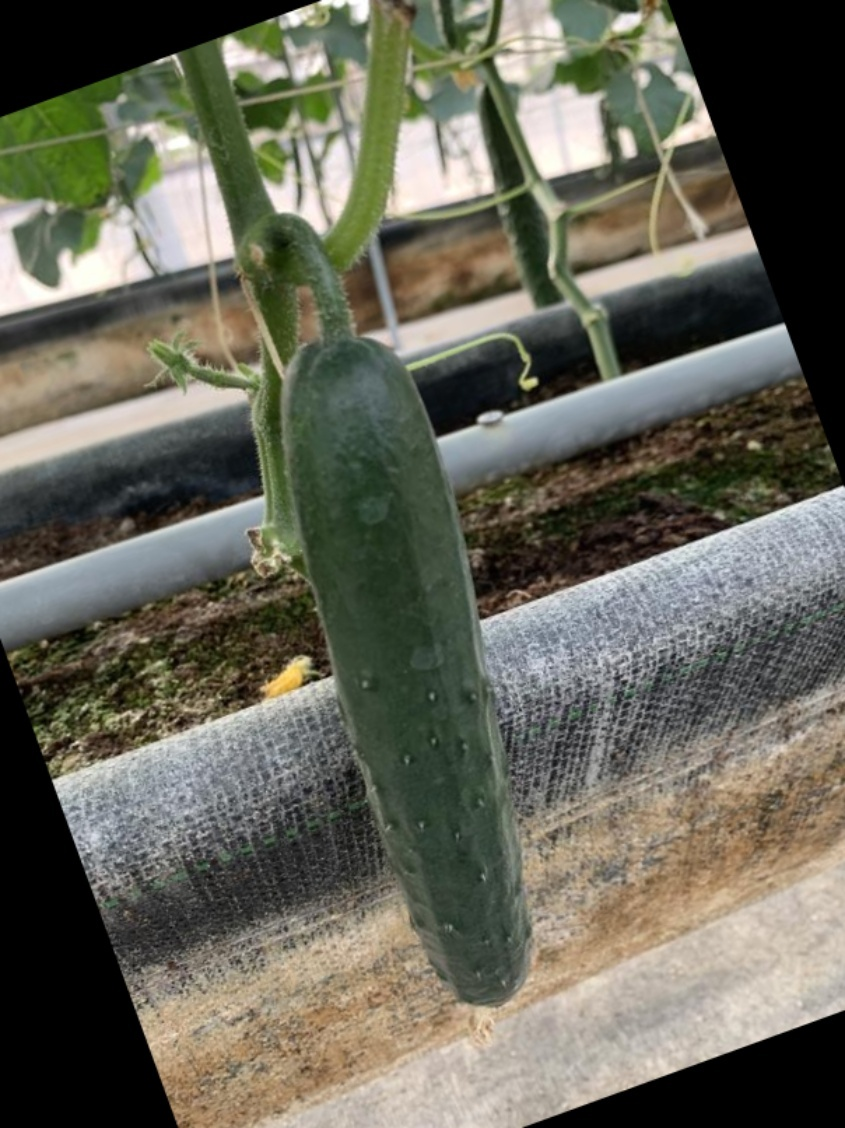mature: (269, 372, 540, 1030)
